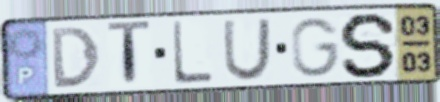D: (49, 24, 103, 91)
G: (288, 16, 342, 79)
L: (170, 19, 215, 87)
S: (337, 11, 401, 80)
T: (104, 19, 153, 90)
U: (221, 16, 274, 83)
